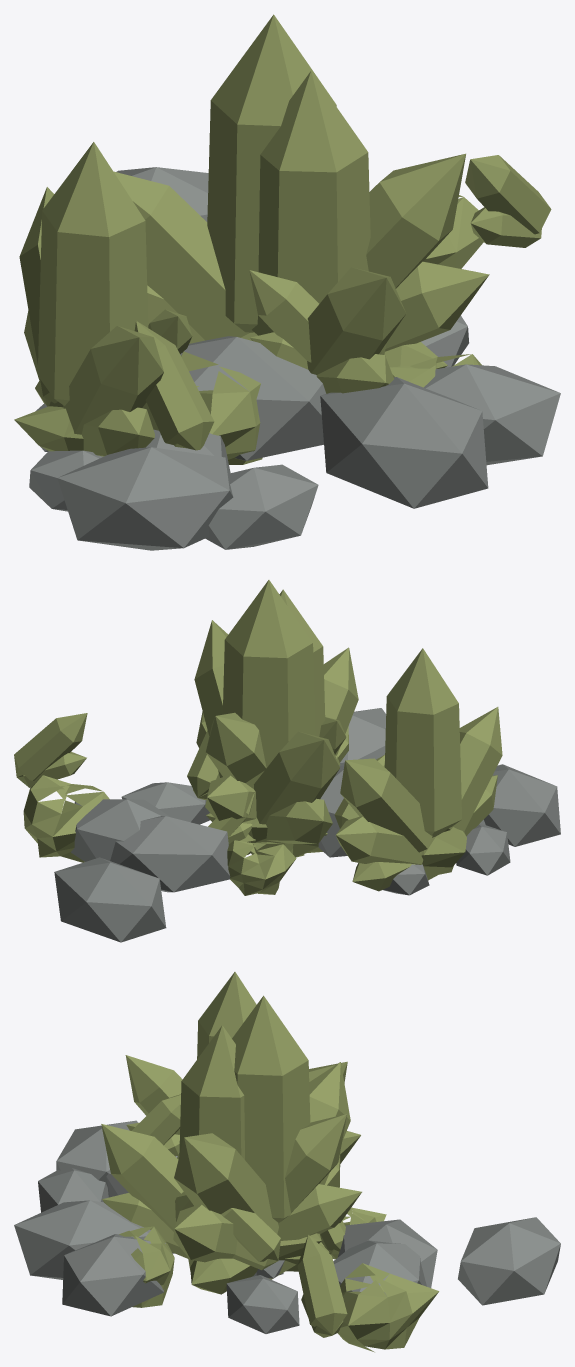
Rendered from uranium_small.glb.
3 views of the same model, one above another, from view 1: azimuth 30°, elevation 25°; view 2: azimuth 150°, elevation 25°; view 3: azimuth 270°, elevation 25° (orthographic). The views are drawn at different scales.
Parts seen in each view (by area): view 1: body/arcane.001; view 2: body/arcane.001; view 3: body/arcane.001.
Part boxes in pixels (x1,y1,x2,y2): body/arcane.001: (14,14,560,550); body/arcane.001: (14,580,560,942); body/arcane.001: (14,972,560,1352).
Bounding box in the file's own units: 3.58 × 2.2 × 3.82.
